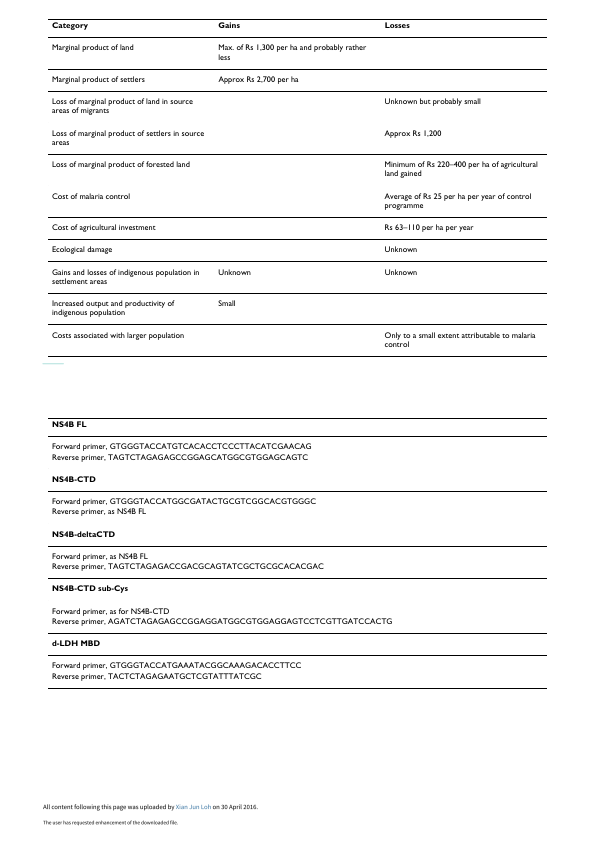borderless: (47, 17, 547, 356), (47, 416, 547, 688)
cell: (50, 617, 393, 627), (50, 129, 205, 148), (383, 160, 538, 179), (383, 331, 536, 350), (217, 44, 367, 63), (50, 268, 200, 287), (383, 192, 532, 211), (50, 562, 324, 572), (50, 97, 193, 116), (50, 497, 317, 507), (50, 453, 309, 463), (50, 299, 175, 318), (50, 443, 312, 452), (50, 662, 302, 671), (50, 672, 262, 682), (50, 160, 190, 170), (50, 331, 185, 341), (50, 607, 170, 617), (50, 223, 156, 233), (50, 552, 148, 562), (383, 97, 481, 107), (50, 75, 145, 85), (383, 223, 474, 233), (50, 508, 147, 517), (217, 75, 299, 85), (50, 192, 131, 202), (50, 44, 134, 53), (50, 585, 129, 594), (50, 530, 116, 540), (383, 129, 442, 139), (50, 246, 113, 255), (50, 475, 96, 485), (50, 640, 100, 649), (383, 268, 418, 278), (50, 22, 88, 31), (217, 268, 251, 278), (50, 421, 87, 430), (383, 246, 418, 255), (383, 22, 410, 31), (217, 22, 240, 31), (217, 299, 236, 309)
